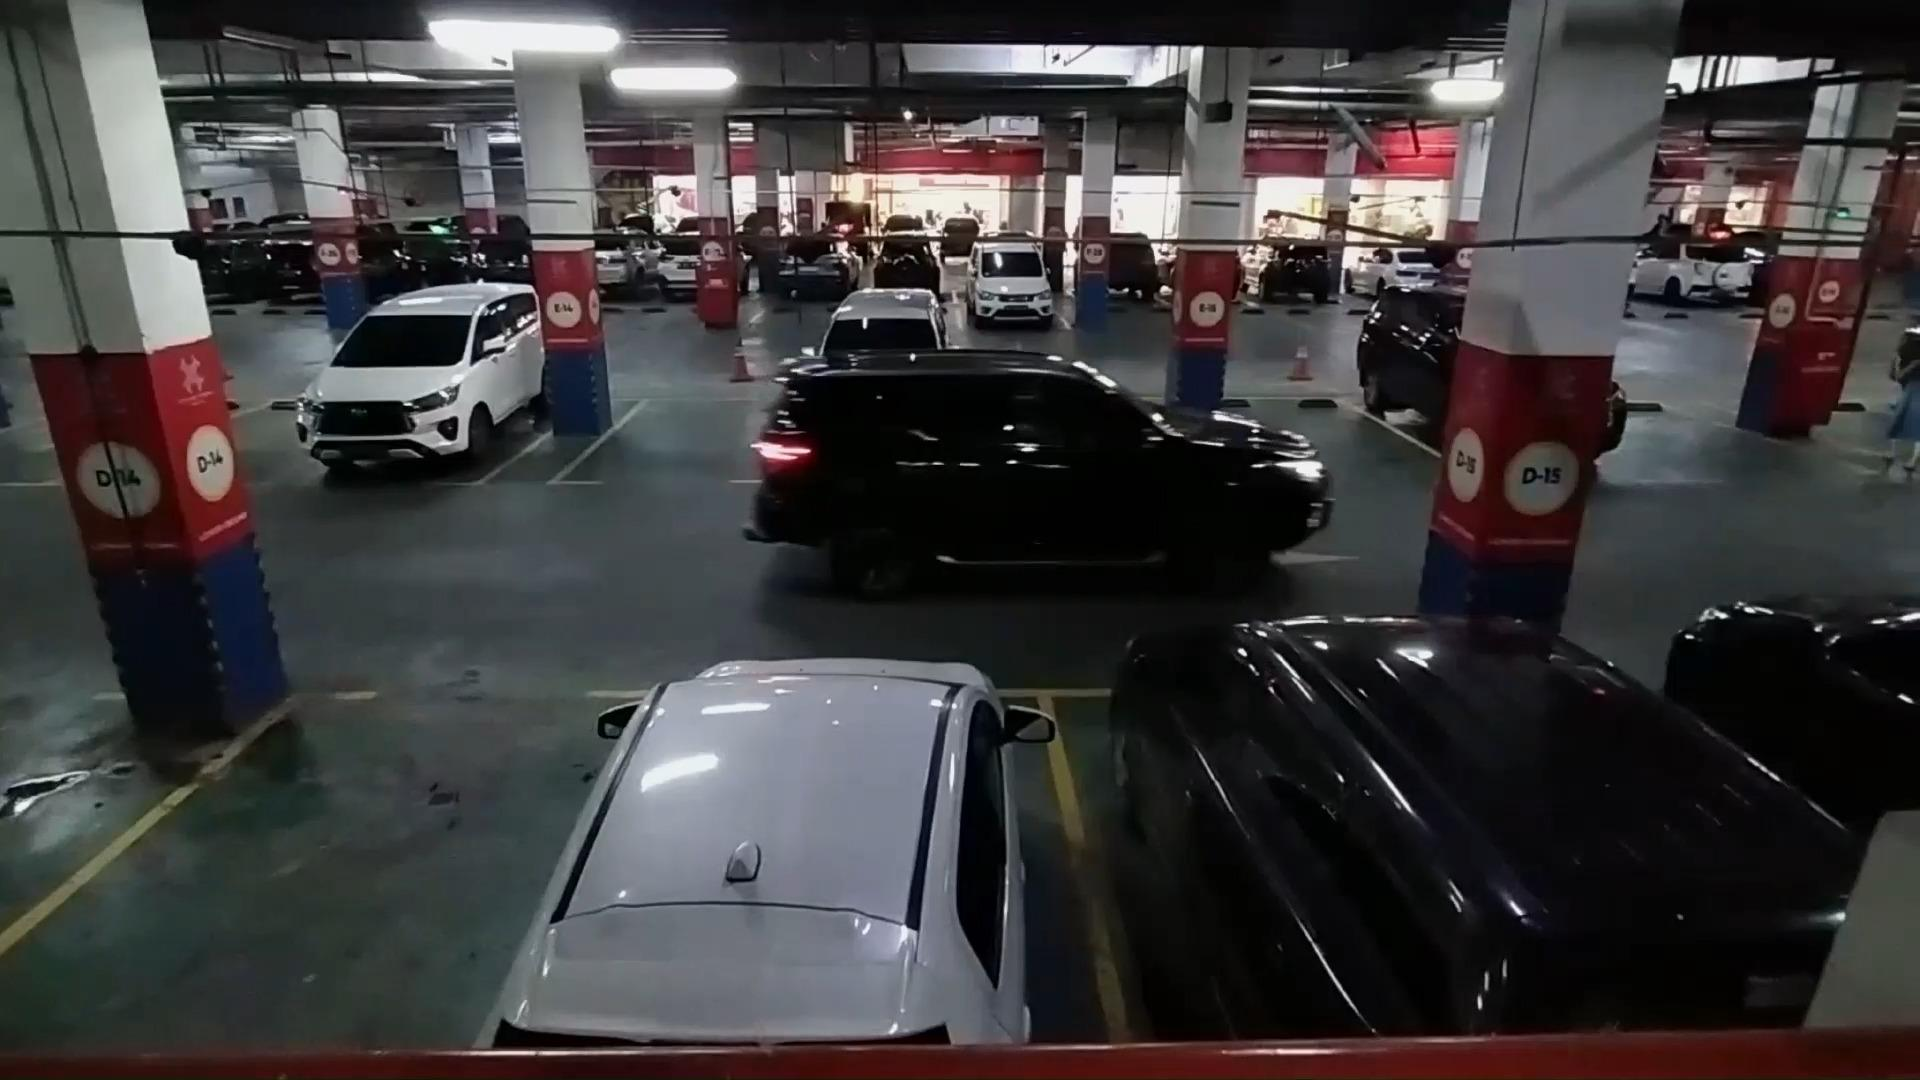empty: (53, 686, 492, 1051), (570, 394, 765, 488)
occupied: (1073, 654, 1693, 1049), (579, 687, 1069, 1039), (304, 308, 545, 489)
